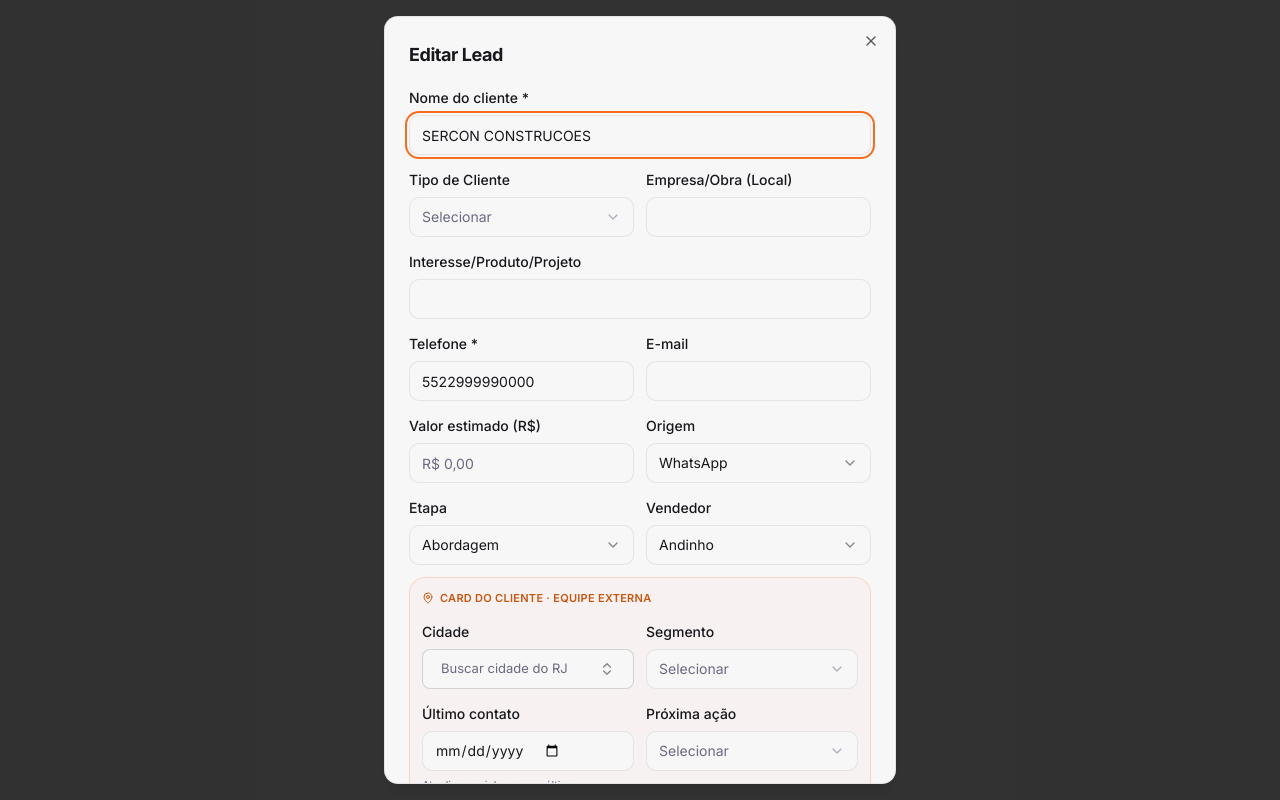
Test: EditLeadForm — funil etapa a etapa › blocks moving forward without the qualification and explains what is missing
Press ArrowDown in the dropdown named "Etapa", box [409, 525, 634, 565]
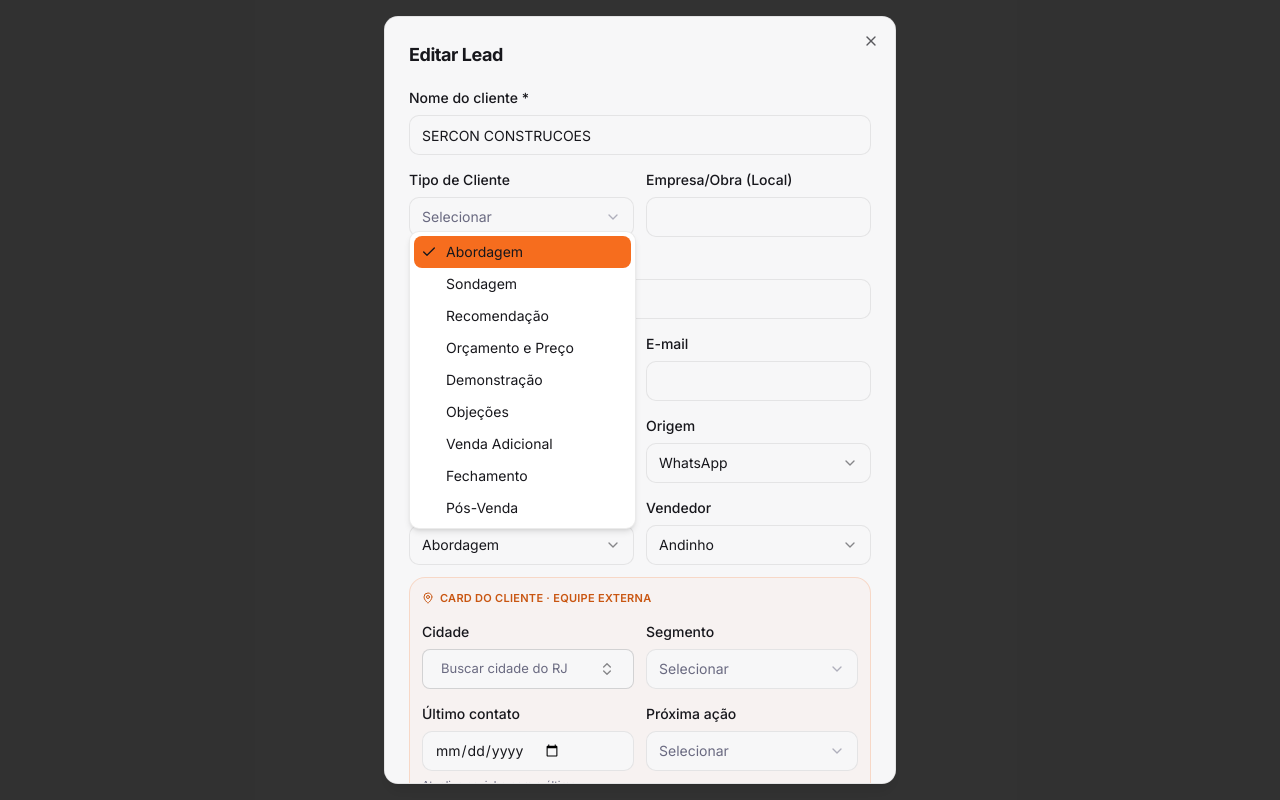
Click the option "Fechamento" at (487,476), box [446, 467, 528, 484]
(page scrolled)
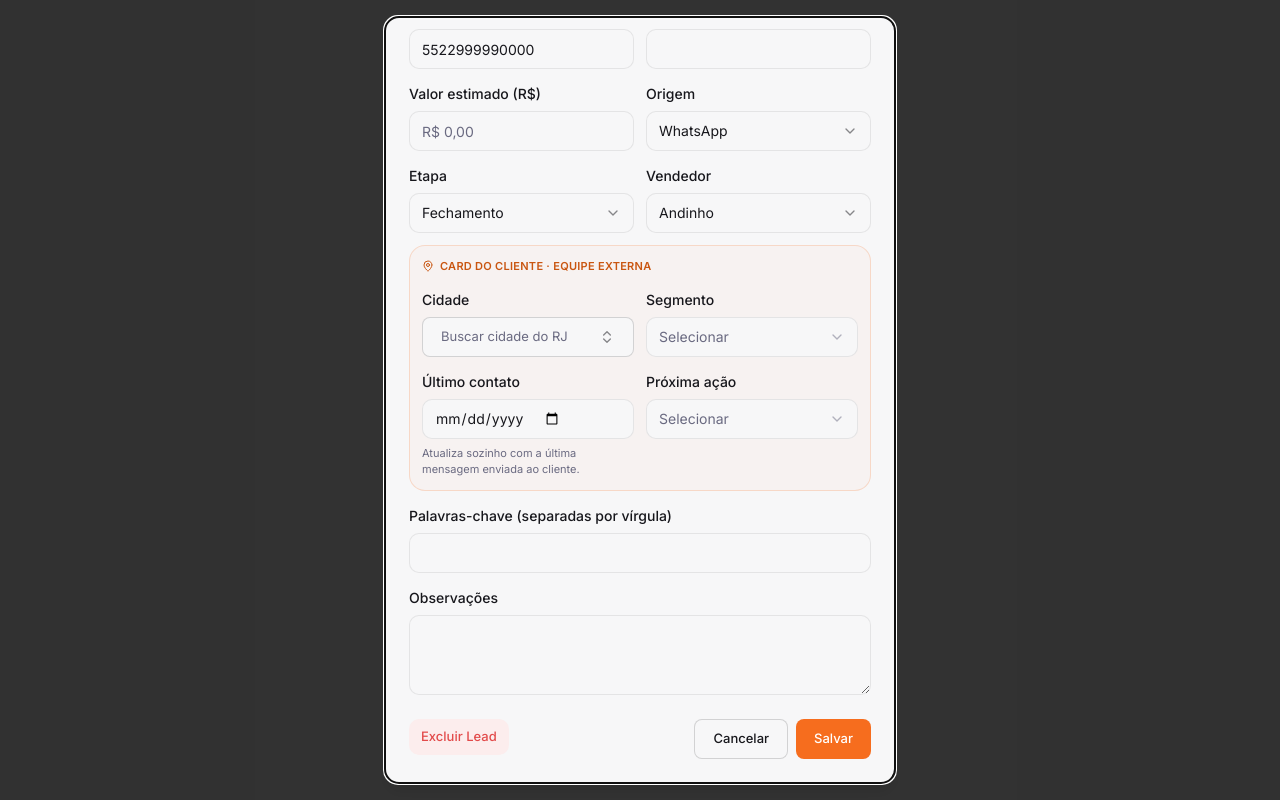
Click the button "Salvar" at (834,738), box [796, 718, 871, 758]
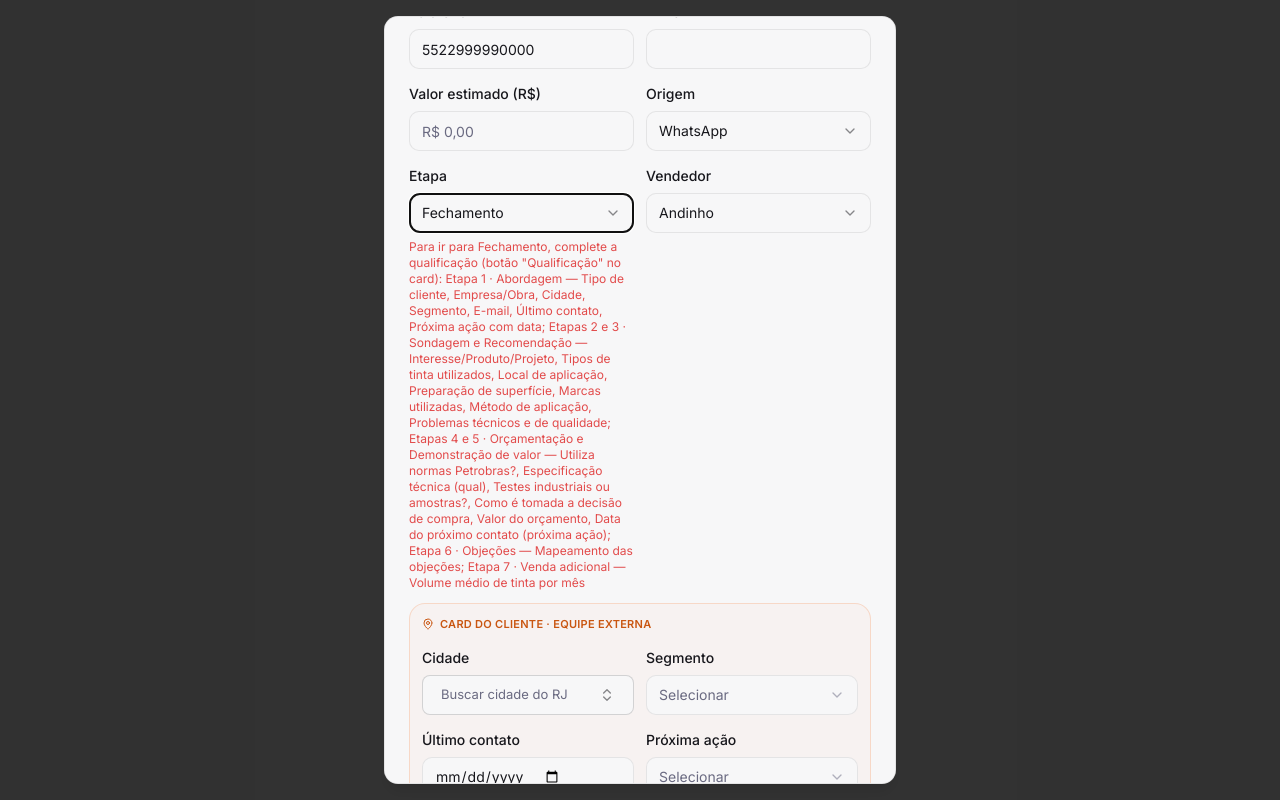
Now the message shows "Para ir para Fechamento, complete a qualificação", box [409, 239, 633, 590]
